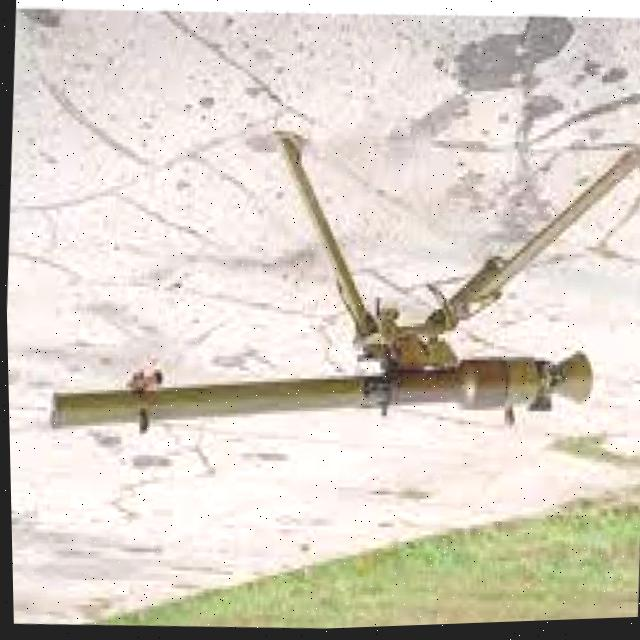rocket: (47, 323, 595, 463)
